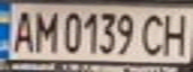0: (60, 8, 81, 54)
1: (78, 9, 100, 55)
3: (97, 9, 118, 55)
9: (115, 9, 139, 56)
A: (6, 7, 36, 54)
C: (136, 10, 169, 57)
H: (157, 10, 193, 57)
M: (30, 7, 60, 54)
